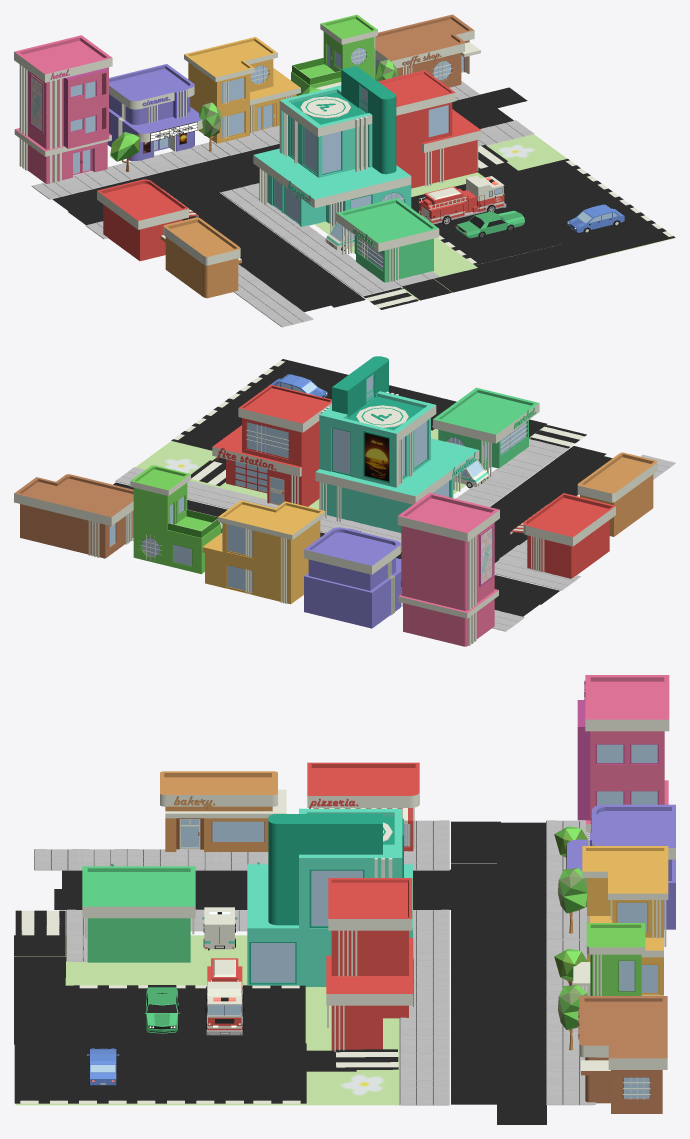
The model's file is ncp.glb.
The picture shows the model from 3 angles, top to bottom: view 1: azimuth 30°, elevation 25°; view 2: azimuth 150°, elevation 25°; view 3: azimuth 270°, elevation 25°; orthographic projection. The views are drawn at different scales.
Visible parts, largest first — view 1: hospital, hotel, yellow_house, fire_station, cinema, market, coffe_shop, pizzeria, bakery, green_house, grass, fire_truck (+45 smaller); view 2: hospital, hotel, fire_station, yellow_house, cinema, coffe_shop, green_house, pizzeria, market, bakery, grass, road.004 (+24 smaller); view 3: hospital, fire_station, hotel, grass, market, coffe_shop, bakery, yellow_house, pizzeria, cinema, green_house, road.004 (+73 smaller).
Part boxes in pixels (x1,y1,x2,y2): hospital: [253, 66, 411, 232]; hotel: [14, 35, 112, 183]; yellow_house: [184, 36, 300, 143]; fire_station: [378, 70, 481, 188]; cinema: [107, 64, 202, 161]; market: [336, 198, 439, 282]; coffe_shop: [375, 14, 480, 87]; pizzeria: [97, 179, 198, 261]; bakery: [160, 217, 241, 298]; green_house: [291, 14, 377, 95]; grass: [314, 134, 675, 300]; fire_truck: [418, 175, 506, 224]; hospital: [315, 356, 479, 532]; hotel: [397, 492, 499, 646]; fire_station: [212, 384, 331, 506]; yellow_house: [202, 500, 325, 604]; cinema: [304, 527, 401, 628]; coffe_shop: [14, 474, 133, 558]; green_house: [130, 465, 222, 574]; pizzeria: [510, 493, 615, 578]; market: [433, 387, 539, 476]; bakery: [577, 452, 657, 536]; grass: [136, 425, 547, 509]; road.004: [260, 359, 347, 392]; hospital: [247, 808, 412, 986]; fire_station: [326, 878, 413, 1051]; hotel: [577, 675, 669, 833]; grass: [15, 935, 399, 1105]; market: [82, 863, 195, 962]; coffe_shop: [578, 996, 667, 1113]; bakery: [160, 771, 286, 852]; yellow_house: [582, 846, 668, 995]; pizzeria: [307, 762, 419, 851]; cinema: [566, 804, 675, 929]; green_house: [573, 923, 645, 995]; road.004: [14, 1043, 73, 1103].
Size of the model in its own units: 42.99 by 10.56 by 39.58.
Materials: 309 (1 with a texture image).
